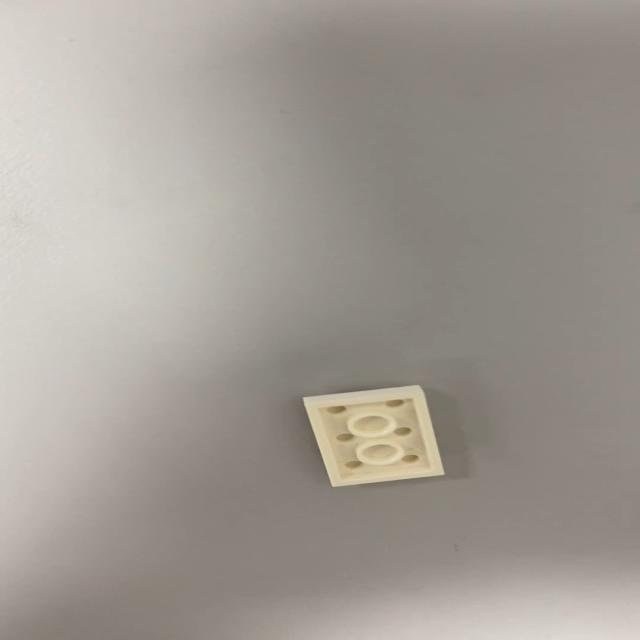C3x2x0: (300, 384, 444, 488)
